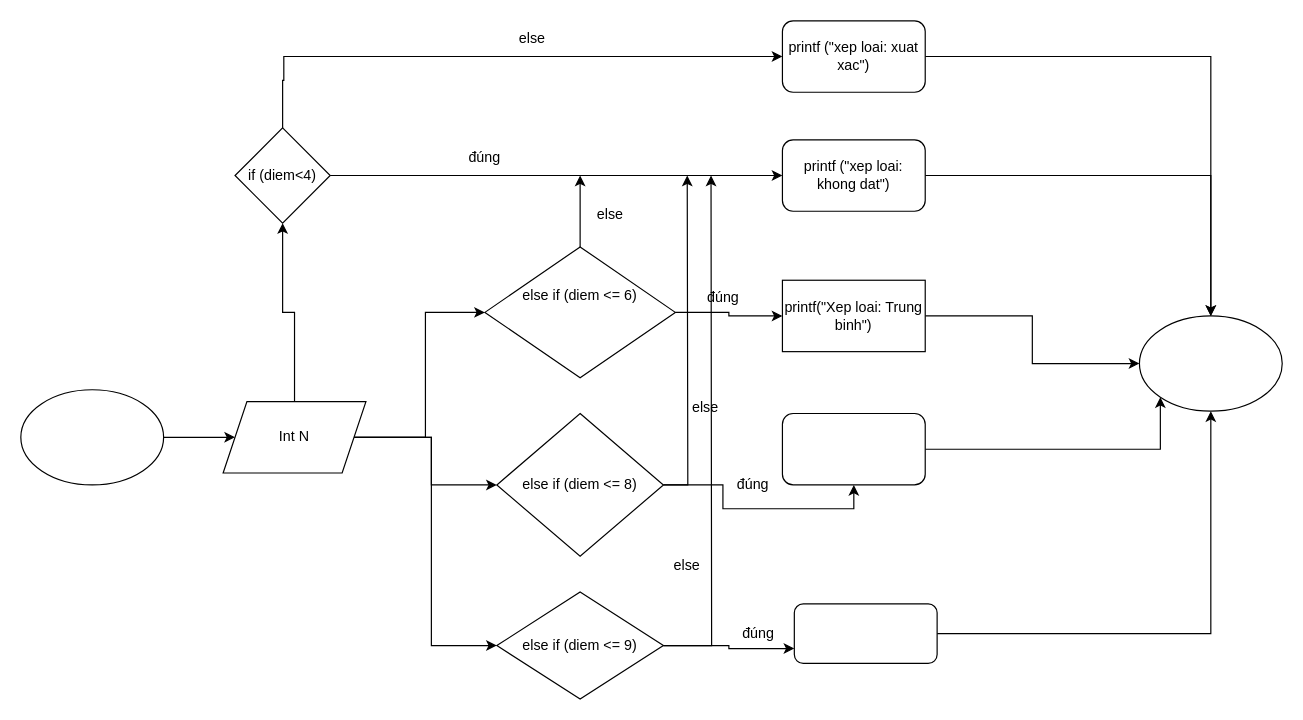
This 1303x720 diagram has some shape labels left out. Here are the shapes that lost their labels. From the top down, the box of each, then its label:
(1138, 315, 1282, 411): end
(20, 389, 164, 485): star
(781, 412, 925, 485): printf ( "Xep loai: kha")
(793, 603, 937, 663): printf ( "Xep loai: gioi")
